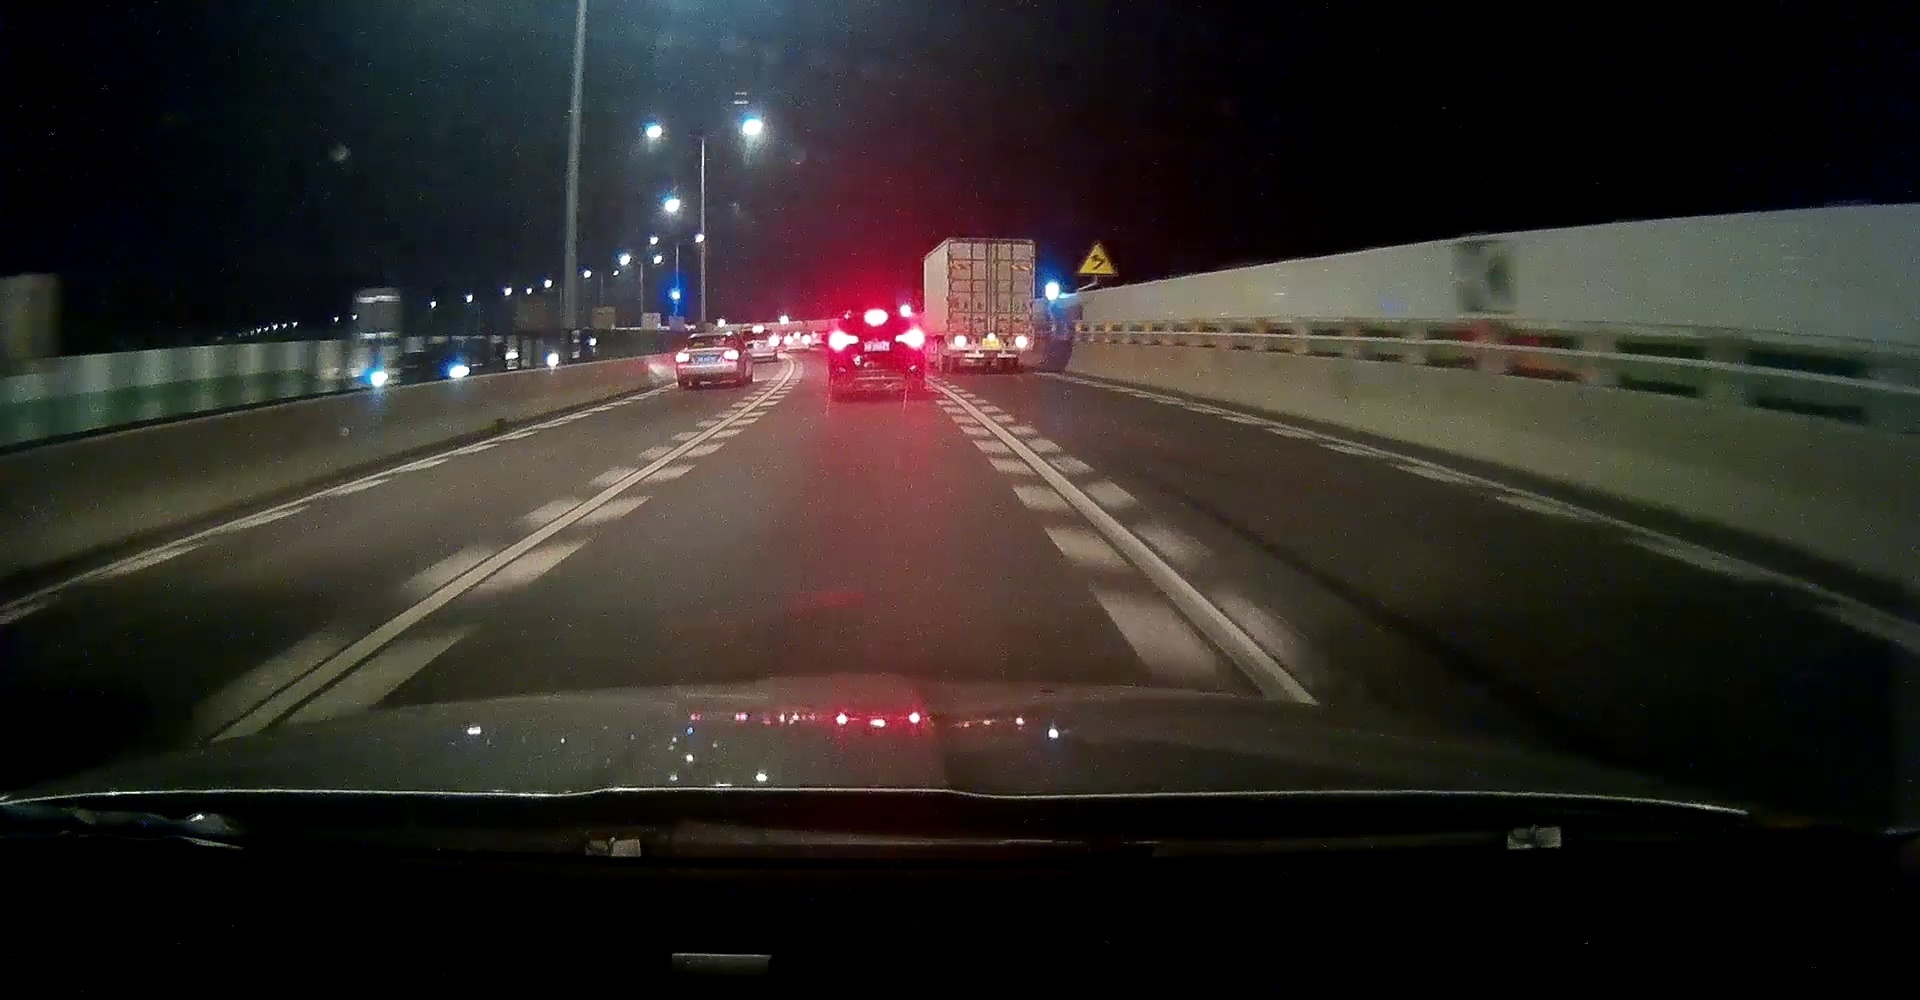L_light: (829, 332, 858, 346), (952, 336, 970, 345), (676, 354, 690, 362)
R_light: (895, 331, 924, 346), (1015, 338, 1030, 346), (723, 352, 739, 359)
T_light: (865, 313, 888, 322), (980, 242, 1001, 251), (703, 335, 715, 339)
night-brake: (828, 307, 926, 397)
night-no: (946, 237, 1035, 373), (676, 331, 740, 390)
